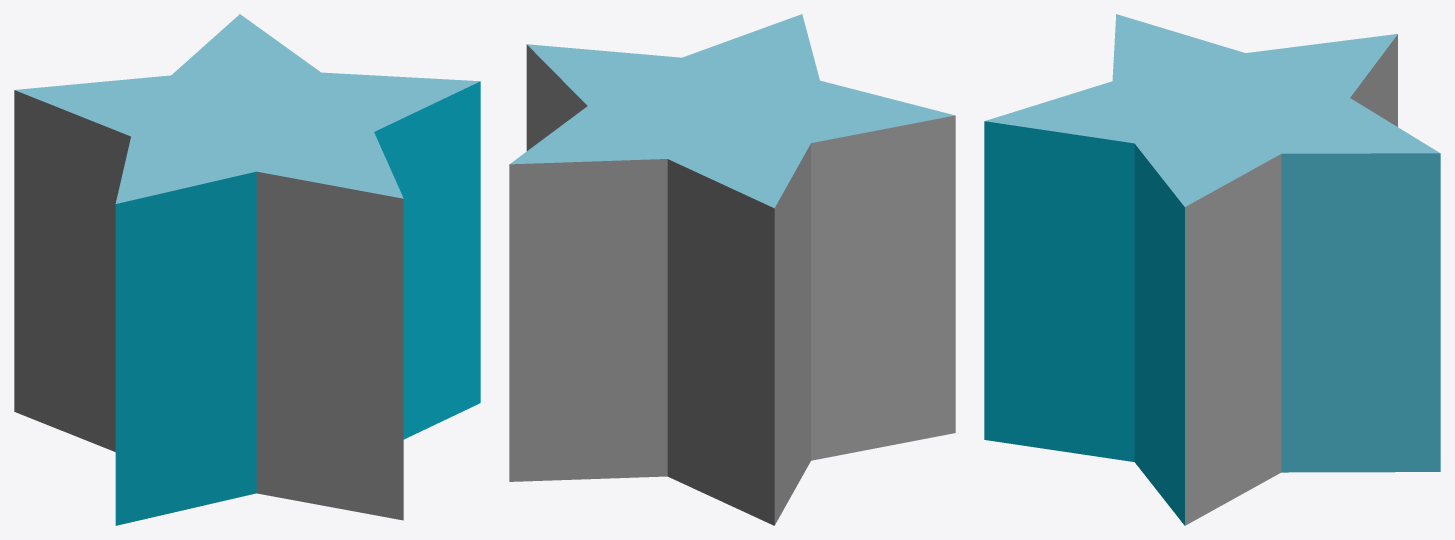
Rendered from StarBlue.fbx.
3 renders of one model, left to right at view 1: azimuth 30°, elevation 25°; view 2: azimuth 150°, elevation 25°; view 3: azimuth 270°, elevation 25°, orthographic.
Visible parts, largest first — view 1: pCylinder1; view 2: pCylinder1; view 3: pCylinder1.
Part boxes in pixels (x1,y1,x2,y2): pCylinder1: (14,14,480,525); pCylinder1: (509,14,955,525); pCylinder1: (984,14,1440,525).
Size of the model in its own units: 1.3 by 1 by 1.3.
